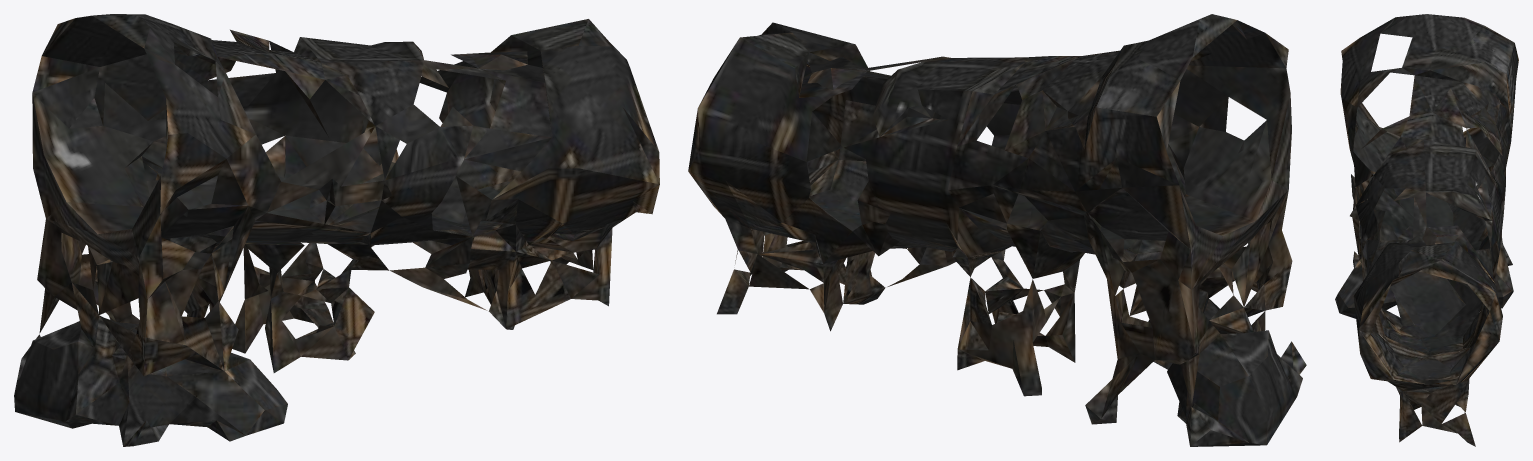
The model's file is stunt-corkscrew.lod.glb.
3 views of the same model, side by side, from view 1: azimuth 30°, elevation 25°; view 2: azimuth 150°, elevation 25°; view 3: azimuth 270°, elevation 25° (orthographic). The views are drawn at different scales.
Parts seen in each view (by area): view 1: output_unwrapped; view 2: output_unwrapped; view 3: output_unwrapped.
Boxes of the visible parts, x1,y1,x2,y2 form: output_unwrapped: [14, 14, 659, 446]; output_unwrapped: [688, 14, 1306, 446]; output_unwrapped: [1335, 14, 1518, 446].
Bounding box in the file's own units: 1.69 × 1.1 × 0.6604.
1 material, 1 textured.
